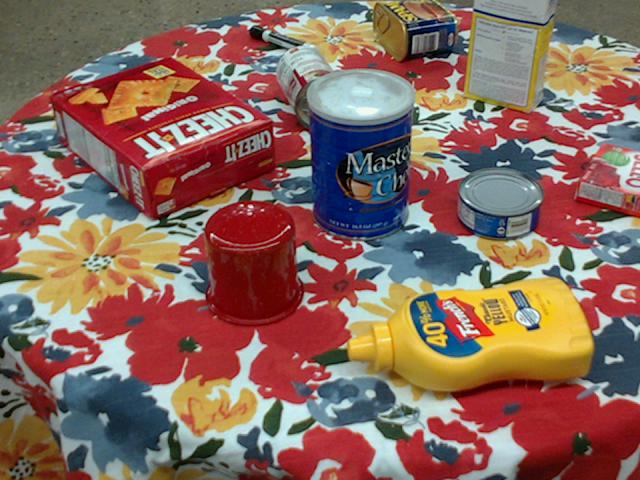cracker_box: (52, 57, 276, 217)
gelatin_box: (574, 144, 639, 218)
large_marker: (251, 24, 318, 57)
master_chef_can: (306, 67, 414, 241)
mug: (203, 199, 305, 326)
mustard_bottle: (349, 274, 596, 390)
potted_meat_can: (373, 0, 458, 59)
sugar_box: (463, 0, 558, 113)
tomato_soup_can: (275, 44, 351, 129)
tuna_fish_can: (459, 168, 545, 240)
